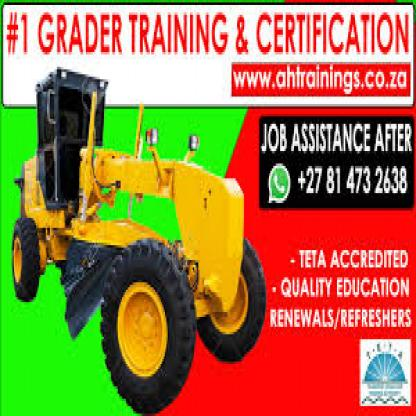bull_dozer/loader/grader: (5, 64, 260, 406)
